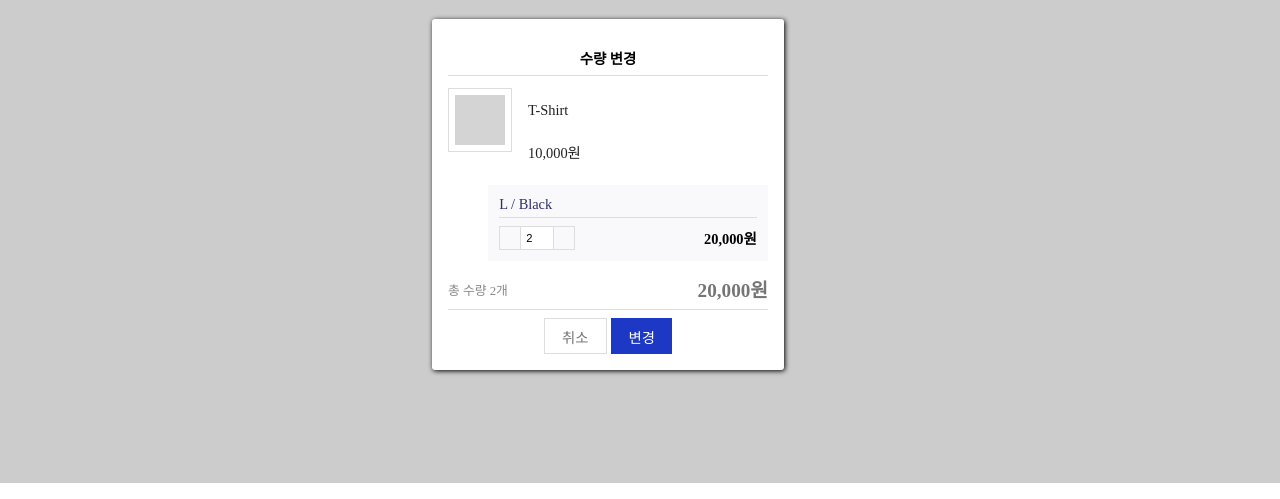
Test: ChangeQuantityModal › 수량 변경 › 선택한 상품의 수량을 감소시키는 경우 › 상품 수량과 금액이 증가하는 것을 볼 수 있다
The image size is (1280, 499).
Expected: the number field showing "2" is shown, [520, 227, 554, 249]
Expected: the text "총 수량 2개" is shown, [448, 280, 508, 299]
Click the button "-": (510, 237) [500, 227, 520, 247]
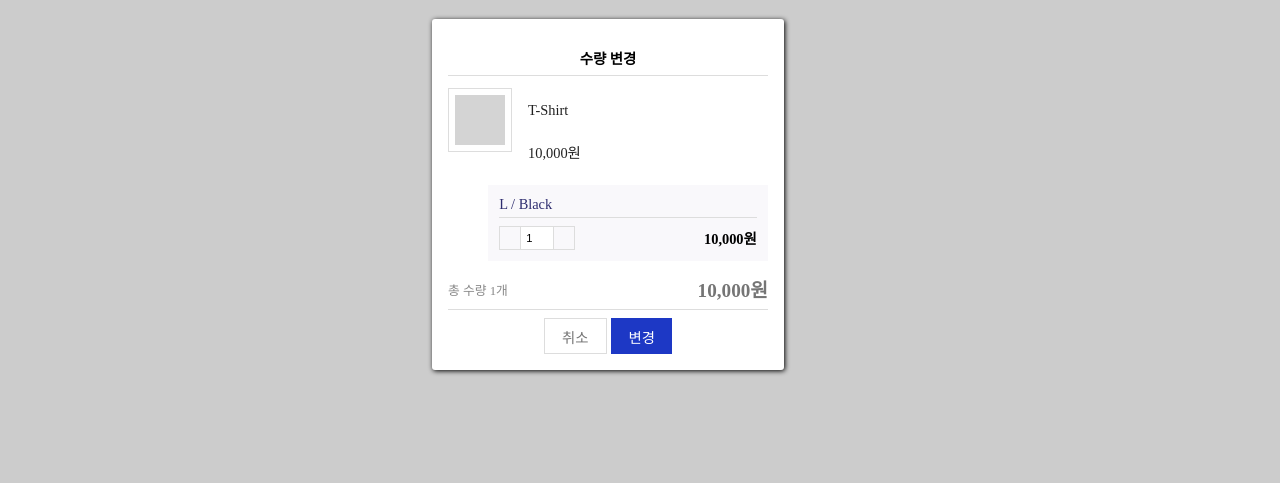
Now the number field showing "1" is shown, box [520, 227, 554, 249]
Now the text "총 수량 1개" is shown, box [448, 280, 508, 299]
